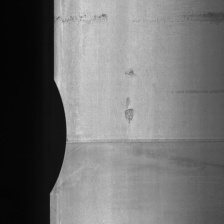crescent_gap: (46, 76, 70, 200), (64, 137, 224, 154)
